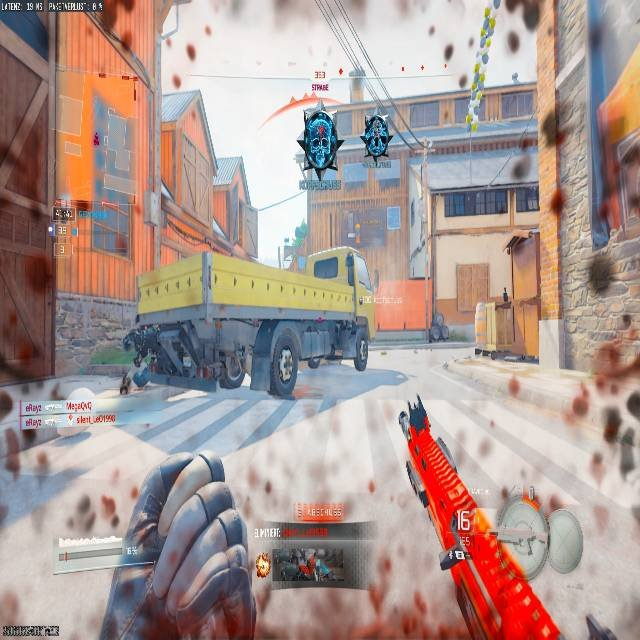player: (118, 321, 161, 396), (361, 114, 390, 163)
